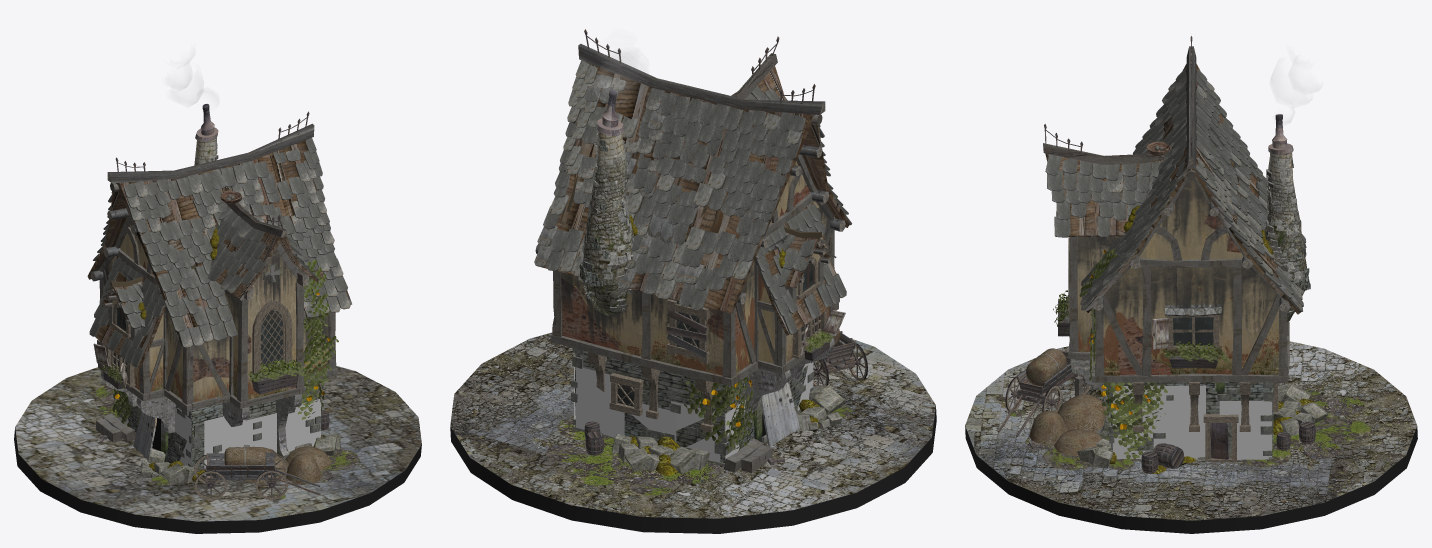
3 renders of one model, left to right at view 1: azimuth 30°, elevation 25°; view 2: azimuth 150°, elevation 25°; view 3: azimuth 270°, elevation 25°, orthographic. The views are drawn at different scales.
Parts seen in each view (by area): view 1: pCylinder2, polySurface107, House_model1:polySurface6, polySurface364, House_model1:polySurface5, polySurface333, House_model1:polySurface7, _Telega:pCylinder3, House_model1:pCube1, House_model1:polySurface8, pPlane429, pPlane431 (+24 smaller); view 2: pCylinder2, polySurface107, House_model1:polySurface6, House_model1:polySurface5, House_model1:polySurface3, polySurface364, polySurface335, House_model1:pCube1, polySurface117, polySurface333, pPlane436, polySurface142 (+25 smaller); view 3: pCylinder2, polySurface107, House_model1:polySurface5, pPlane450, polySurface335, polySurface333, polySurface364, pPlane438, House_model1:polySurface3, House_model1:polySurface6, _Telega:pCylinder3, pPlane437 (+33 smaller).
Boxes of the visible parts, box(x1,y1,x2,y2) form: pCylinder2: box(14, 366, 421, 533); polySurface107: box(89, 137, 350, 367); House_model1:polySurface6: box(87, 139, 351, 346); polySurface364: box(90, 123, 314, 341); House_model1:polySurface5: box(105, 222, 328, 401); polySurface333: box(111, 259, 338, 427); House_model1:polySurface7: box(224, 250, 301, 399); _Telega:pCylinder3: box(194, 452, 320, 500); House_model1:pCube1: box(125, 382, 316, 468); House_model1:polySurface8: box(215, 232, 318, 300); pPlane429: box(204, 416, 245, 468); pPlane431: box(285, 399, 320, 451); pCylinder2: box(450, 332, 936, 533); polySurface107: box(534, 60, 851, 334); House_model1:polySurface6: box(538, 62, 849, 313); House_model1:polySurface5: box(561, 161, 828, 375); House_model1:polySurface3: box(581, 131, 634, 315); polySurface364: box(535, 44, 845, 304); polySurface335: box(546, 415, 721, 495); House_model1:pCube1: box(574, 351, 808, 462); polySurface117: box(611, 412, 830, 473); polySurface333: box(684, 374, 755, 453); pPlane436: box(576, 367, 624, 437); polySurface142: box(761, 382, 799, 446); pCylinder2: box(965, 341, 1417, 533); polySurface107: box(1045, 69, 1306, 311); House_model1:polySurface5: box(1103, 159, 1279, 375); pPlane450: box(1101, 179, 1276, 335); polySurface335: box(1008, 388, 1370, 469); polySurface333: box(1079, 248, 1167, 460); polySurface364: box(1043, 46, 1289, 311); pPlane438: box(1153, 385, 1205, 459); House_model1:polySurface3: box(1264, 153, 1307, 321); House_model1:polySurface6: box(1084, 64, 1301, 314); _Telega:pCylinder3: box(997, 348, 1090, 436); pPlane437: box(1219, 400, 1271, 459).
Bounding box in the file's own units: 19.92 × 20.71 × 19.89.
